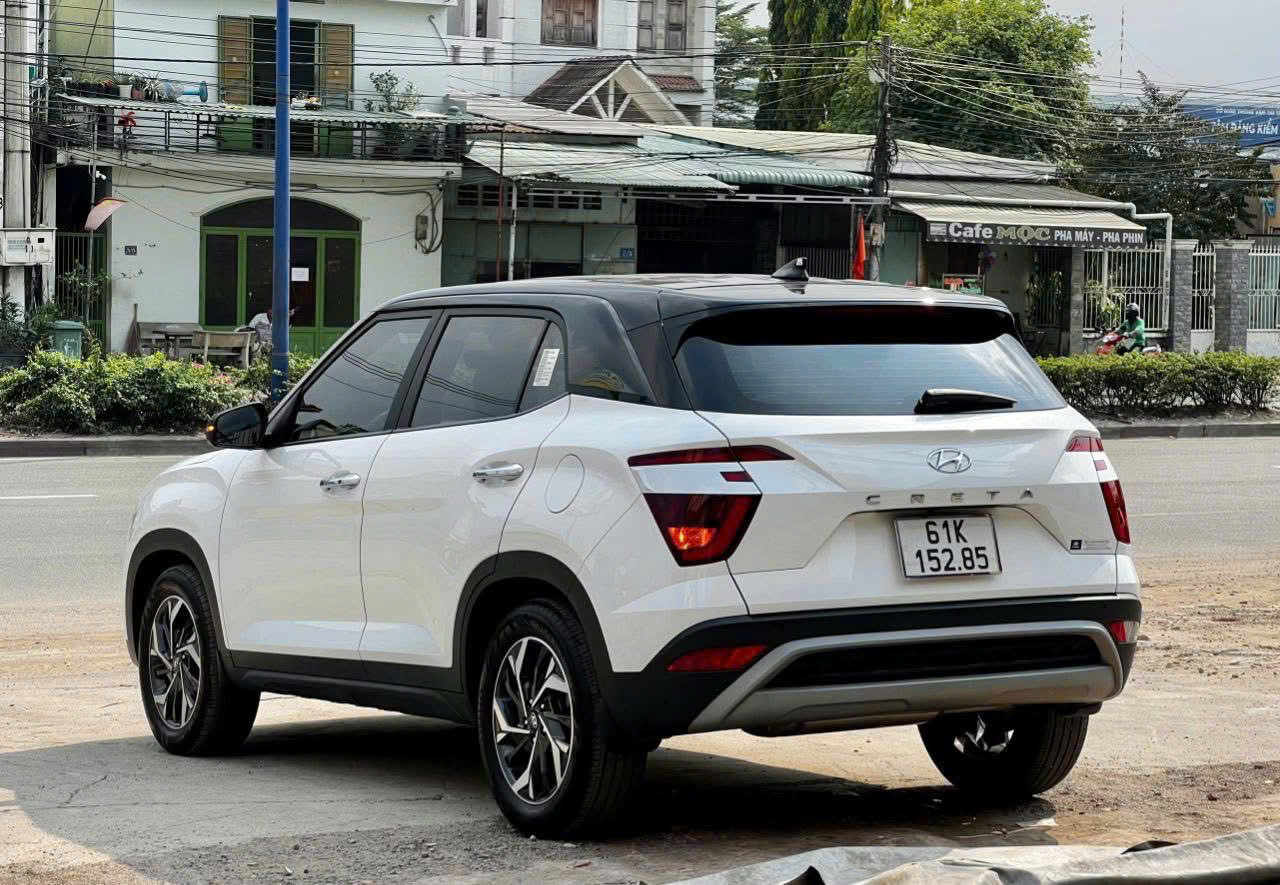Bien-so: (893, 508, 1004, 583)
